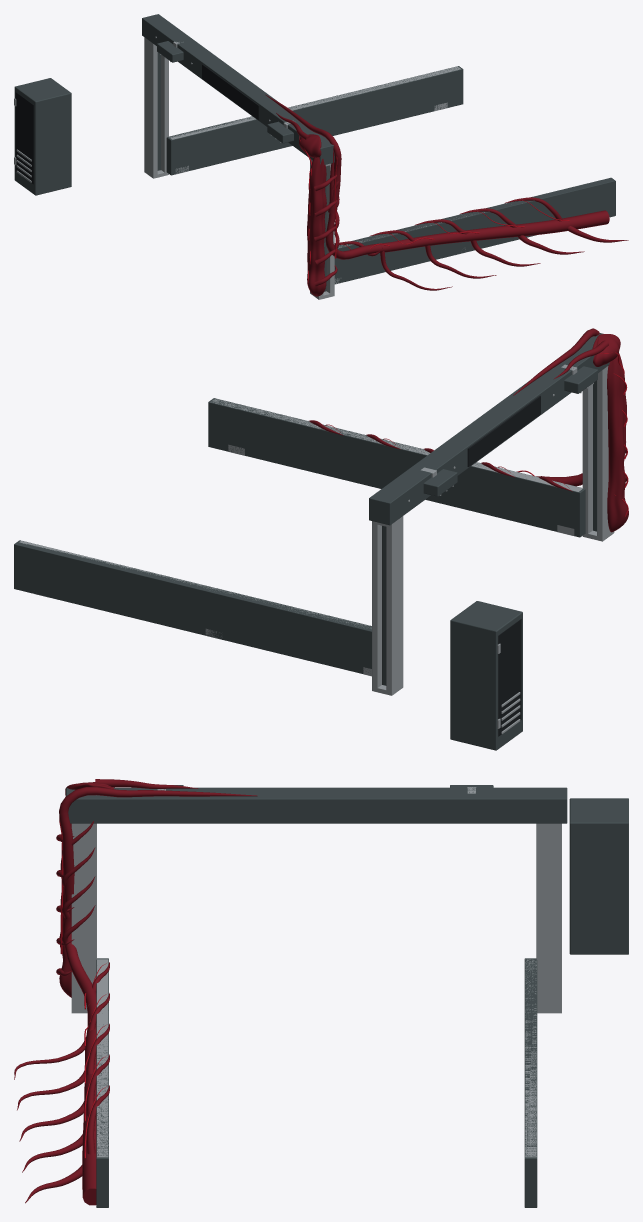
Rendered from SM_ServiceBayMetalwork.fbx.
3 renders of one model, top to bottom at view 1: azimuth 30°, elevation 25°; view 2: azimuth 150°, elevation 25°; view 3: azimuth 270°, elevation 25°, orthographic. The views are drawn at different scales.
Visible parts, largest first — view 1: SM_ServiceBayMetalwork; view 2: SM_ServiceBayMetalwork; view 3: SM_ServiceBayMetalwork.
Boxes of the visible parts, box(x1,y1,x2,y2) form: SM_ServiceBayMetalwork: box(14, 14, 628, 299); SM_ServiceBayMetalwork: box(14, 328, 628, 750); SM_ServiceBayMetalwork: box(14, 779, 628, 1207).
Size of the model in its own units: 675 by 735 by 274.
